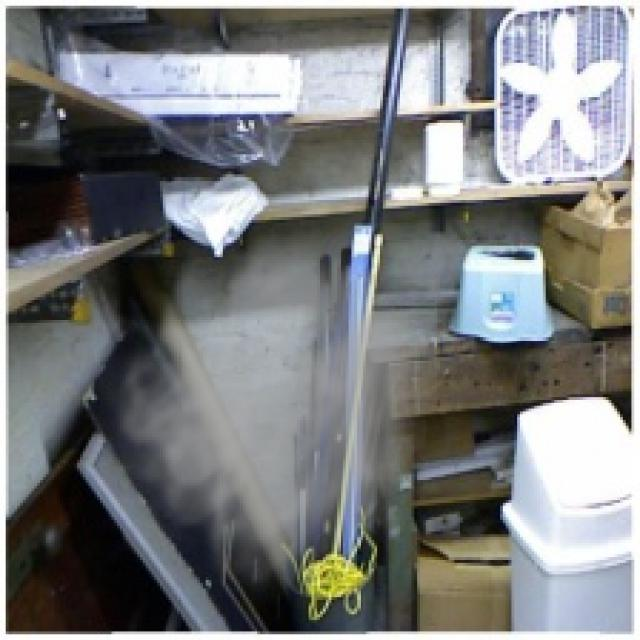smoke: (77, 220, 437, 603)
